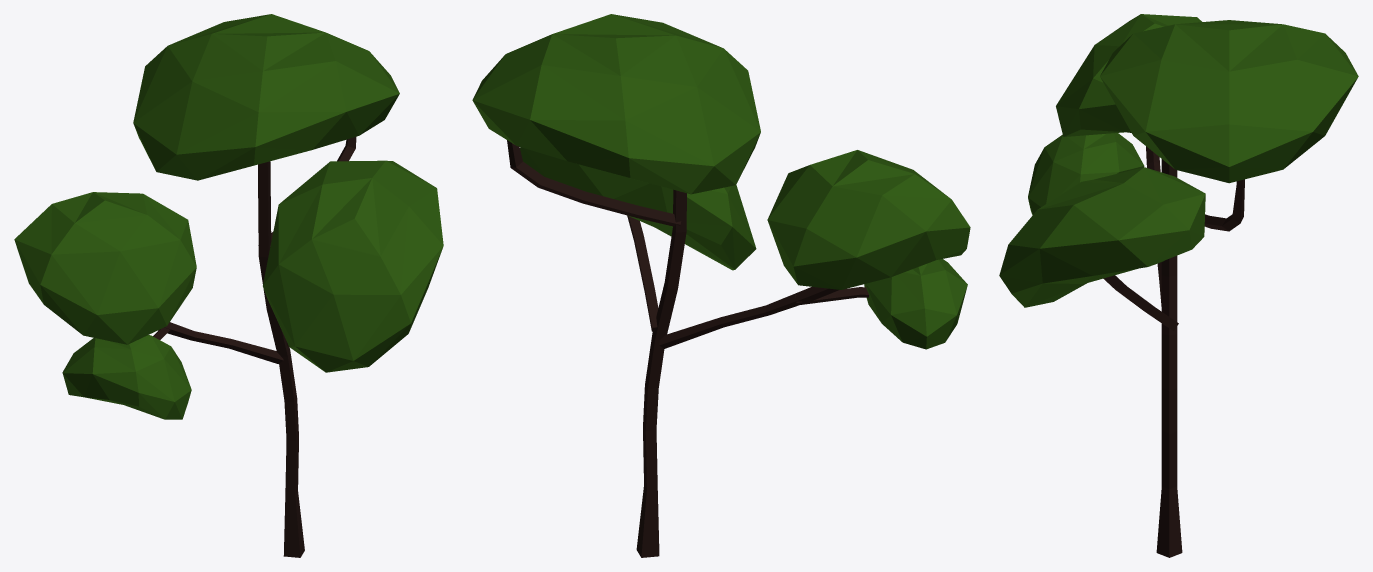
File: SM_tree_c_01.FBX
3 views of the same model, side by side, from view 1: azimuth 30°, elevation 25°; view 2: azimuth 150°, elevation 25°; view 3: azimuth 270°, elevation 25° (orthographic). The views are drawn at different scales.
Visible parts, largest first — view 1: Object035; view 2: Object035; view 3: Object035.
Boxes of the visible parts, x1,y1,x2,y2 form: Object035: [14, 14, 443, 557]; Object035: [472, 14, 970, 557]; Object035: [999, 14, 1358, 557].
Size of the model in its own units: 662 by 783 by 487.
